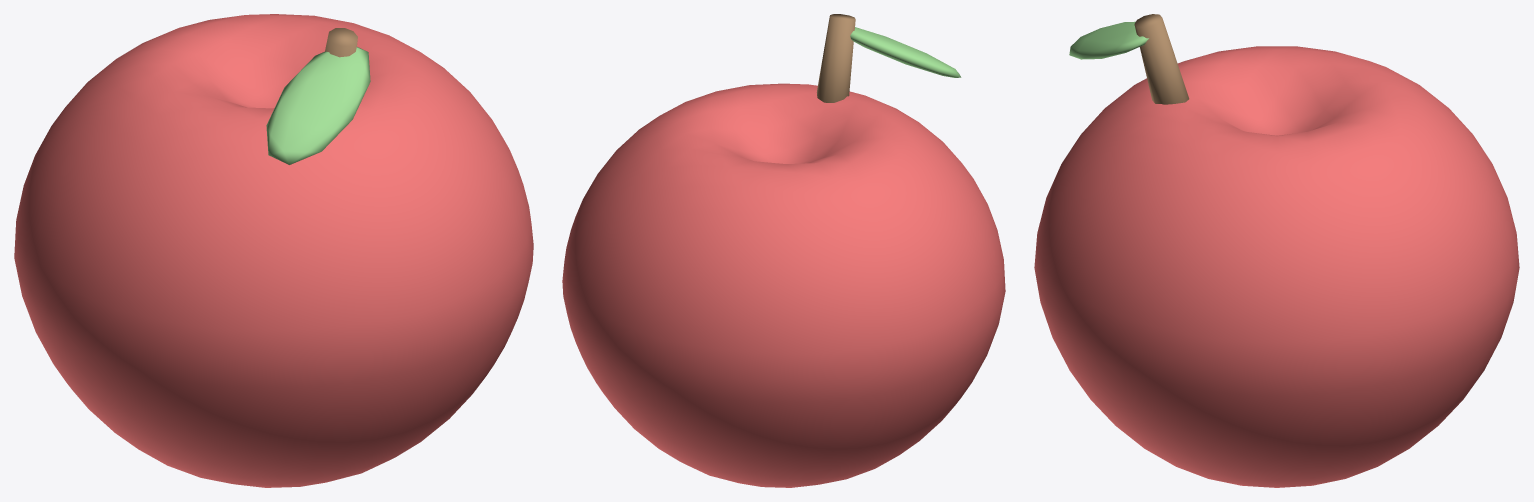
File: sk_food_apple.fbx
3 renders of one model, left to right at view 1: azimuth 30°, elevation 25°; view 2: azimuth 150°, elevation 25°; view 3: azimuth 270°, elevation 25°, orthographic. The views are drawn at different scales.
Visible parts, largest first — view 1: Apple, Apple_Leaf, Apple_Stem; view 2: Apple, Apple_Stem, Apple_Leaf; view 3: Apple, Apple_Stem, Apple_Leaf.
Part boxes in pixels (x1,y1,x2,y2): Apple: [14, 14, 533, 487]; Apple_Leaf: [266, 47, 370, 164]; Apple_Stem: [325, 28, 357, 57]; Apple: [562, 83, 1005, 487]; Apple_Stem: [816, 14, 855, 102]; Apple_Leaf: [850, 27, 961, 77]; Apple: [1034, 46, 1519, 487]; Apple_Stem: [1134, 14, 1189, 104]; Apple_Leaf: [1069, 21, 1148, 59].
Size of the model in its own units: 0.084 by 0.0827 by 0.084.
